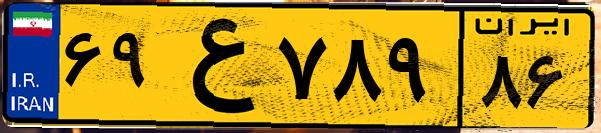6: (57, 26, 110, 100), (525, 38, 570, 115)
7: (270, 28, 330, 110)
8: (330, 28, 385, 110), (475, 38, 525, 113)
9: (385, 28, 445, 110), (110, 28, 158, 98)
ع: (158, 12, 270, 120)
